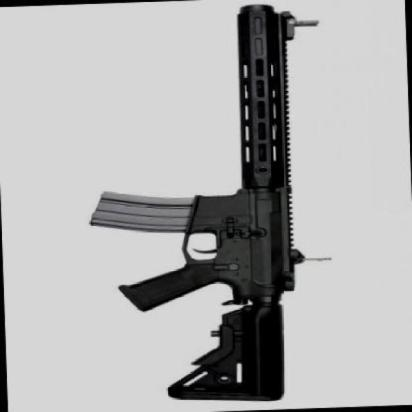Gun: (97, 4, 331, 408)
